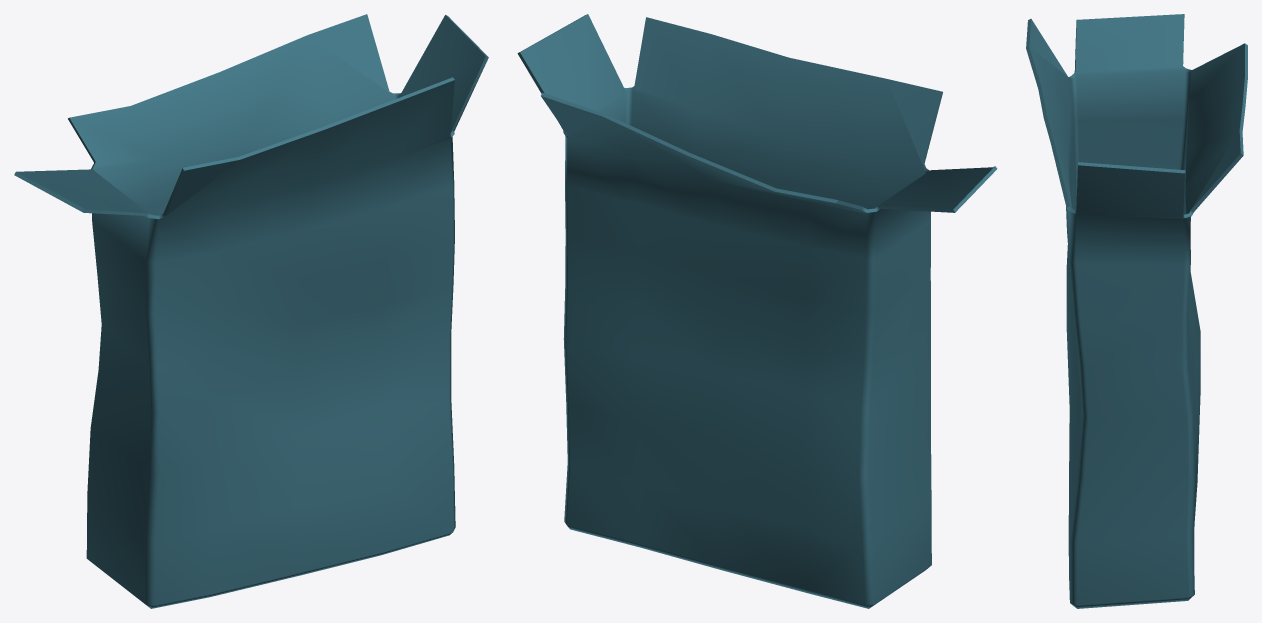
Rendered from SM_SmallTrashkit_snacksBox_002.fbx.
3 views of the same model, side by side, from view 1: azimuth 30°, elevation 25°; view 2: azimuth 150°, elevation 25°; view 3: azimuth 270°, elevation 25° (orthographic).
Parts seen in each view (by area): view 1: SM_SmallTrashkit_snacksBox_002; view 2: SM_SmallTrashkit_snacksBox_002; view 3: SM_SmallTrashkit_snacksBox_002.
Part boxes in pixels (left/top/right/bottom): SM_SmallTrashkit_snacksBox_002: left=14, top=14, right=488, bottom=608; SM_SmallTrashkit_snacksBox_002: left=517, top=14, right=997, bottom=608; SM_SmallTrashkit_snacksBox_002: left=1026, top=14, right=1247, bottom=608.
Size of the model in its own units: 42.04 by 43.73 by 18.8.
